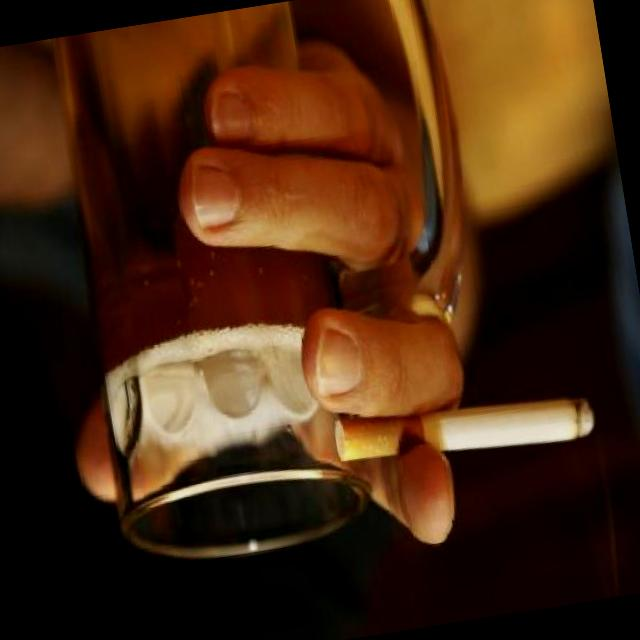smoke: (193, 26, 612, 576)
